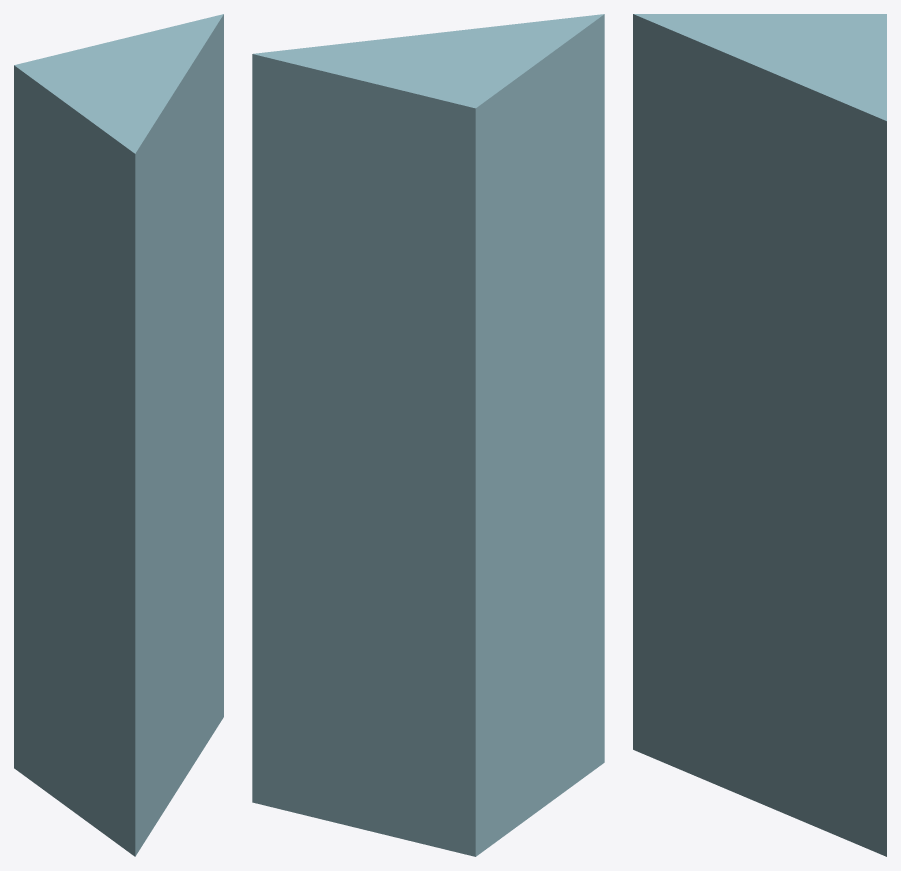
Rendered from Terrain_Modular_Tiles_Ice_Cliff_Side_Corner_01.fbx.
3 views of the same model, side by side, from view 1: azimuth 30°, elevation 25°; view 2: azimuth 150°, elevation 25°; view 3: azimuth 270°, elevation 25° (orthographic). The views are drawn at different scales.
Visible parts, largest first — view 1: Terrain_Modular_Tiles_Ice_Cliff_Side_Corner_01; view 2: Terrain_Modular_Tiles_Ice_Cliff_Side_Corner_01; view 3: Terrain_Modular_Tiles_Ice_Cliff_Side_Corner_01.
Boxes of the visible parts, bbox=[...] form: Terrain_Modular_Tiles_Ice_Cliff_Side_Corner_01: bbox=[14, 14, 223, 856]; Terrain_Modular_Tiles_Ice_Cliff_Side_Corner_01: bbox=[252, 14, 604, 856]; Terrain_Modular_Tiles_Ice_Cliff_Side_Corner_01: bbox=[633, 14, 886, 856].
Size of the model in its own units: 29.53 by 94.49 by 29.53.
